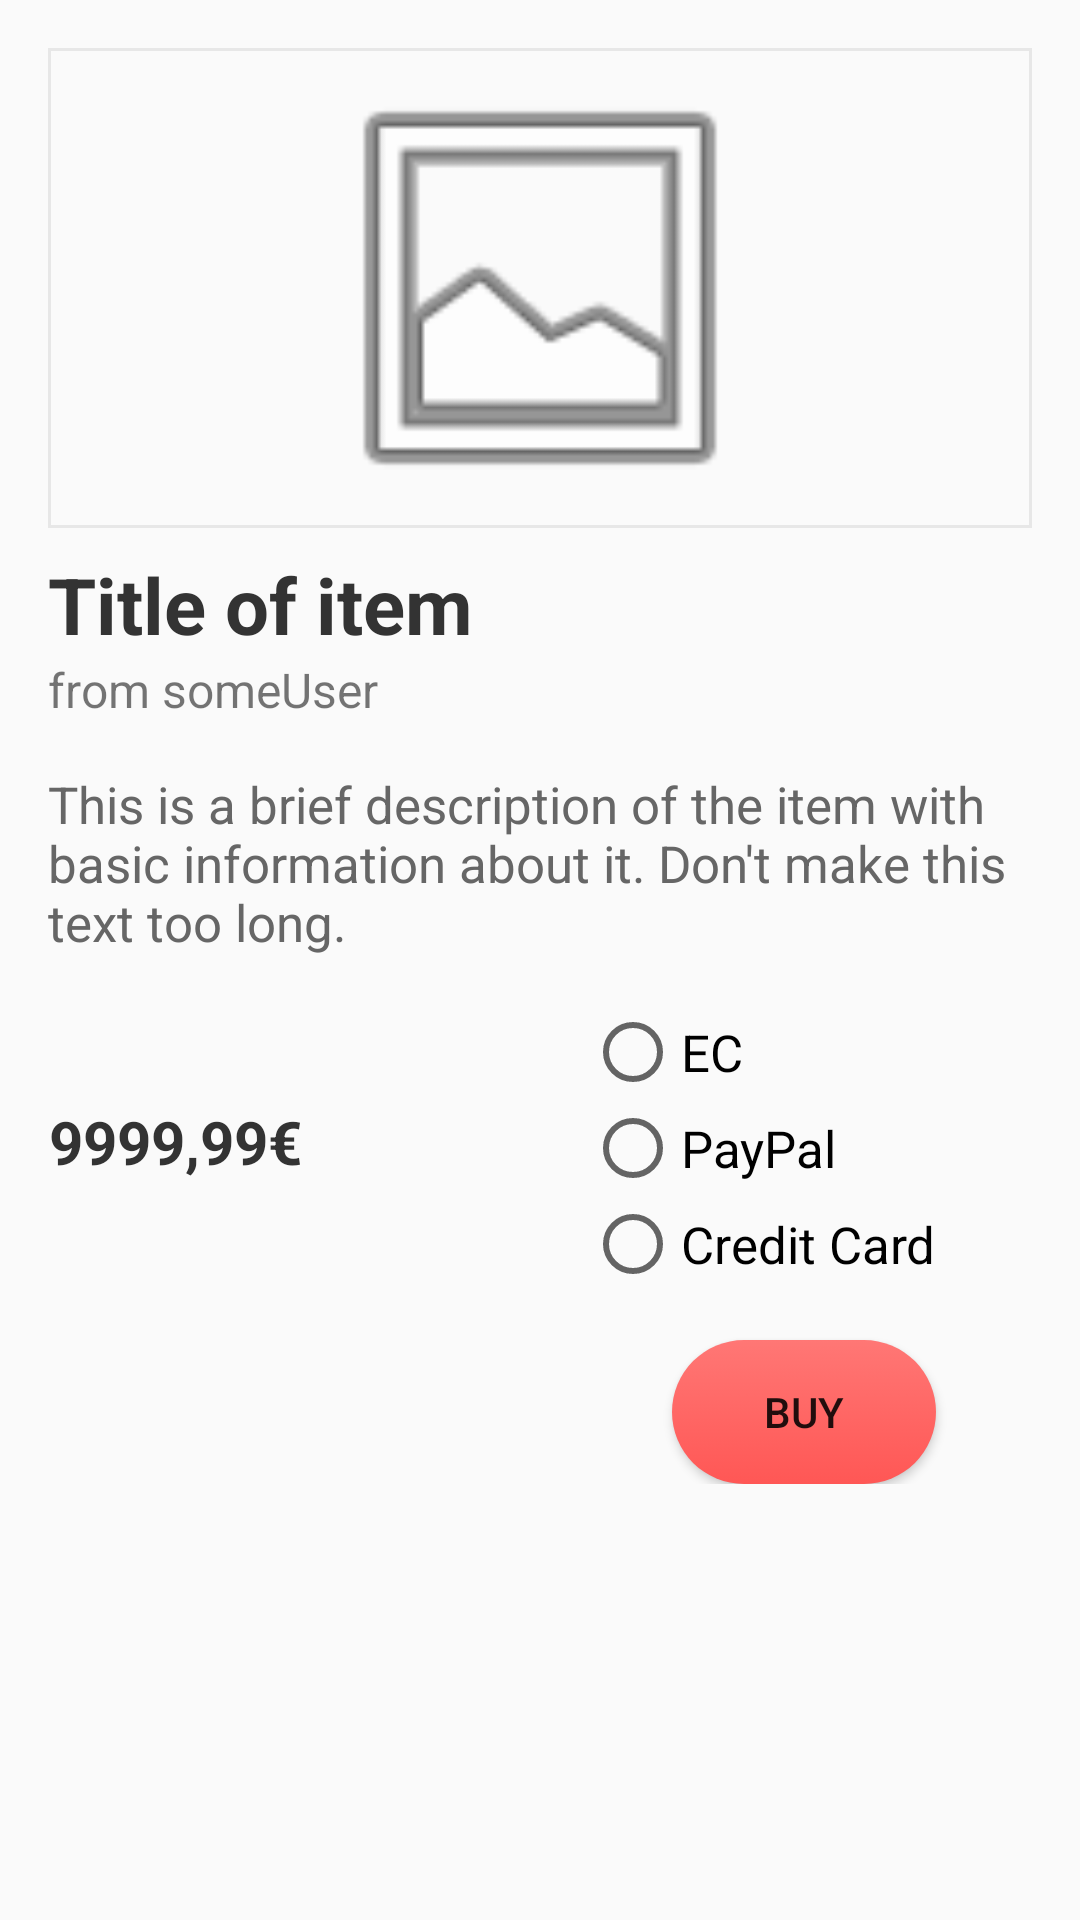

Named icons in this screenshot (1080px x 1920px) and their bounding boxes, Rect(x1, y1, x2, y2):
gallery: Rect(363, 111, 717, 465)
